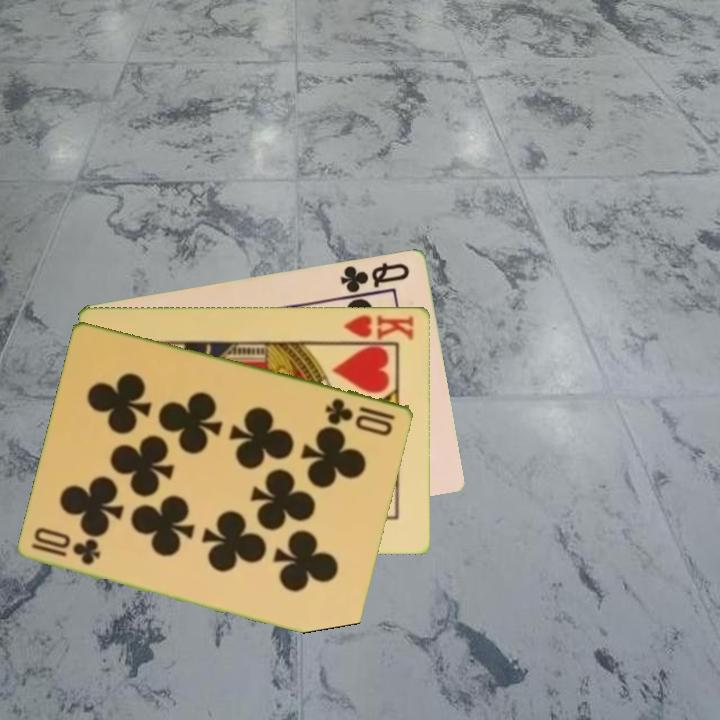10c: (322, 394, 399, 438), (28, 525, 104, 568)
Kh: (336, 311, 417, 344)
Qc: (337, 259, 413, 299)
